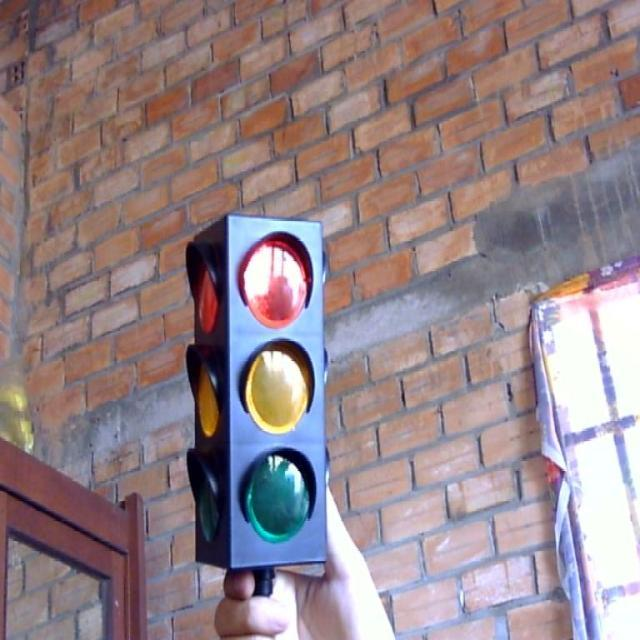red light: (232, 222, 318, 342)
